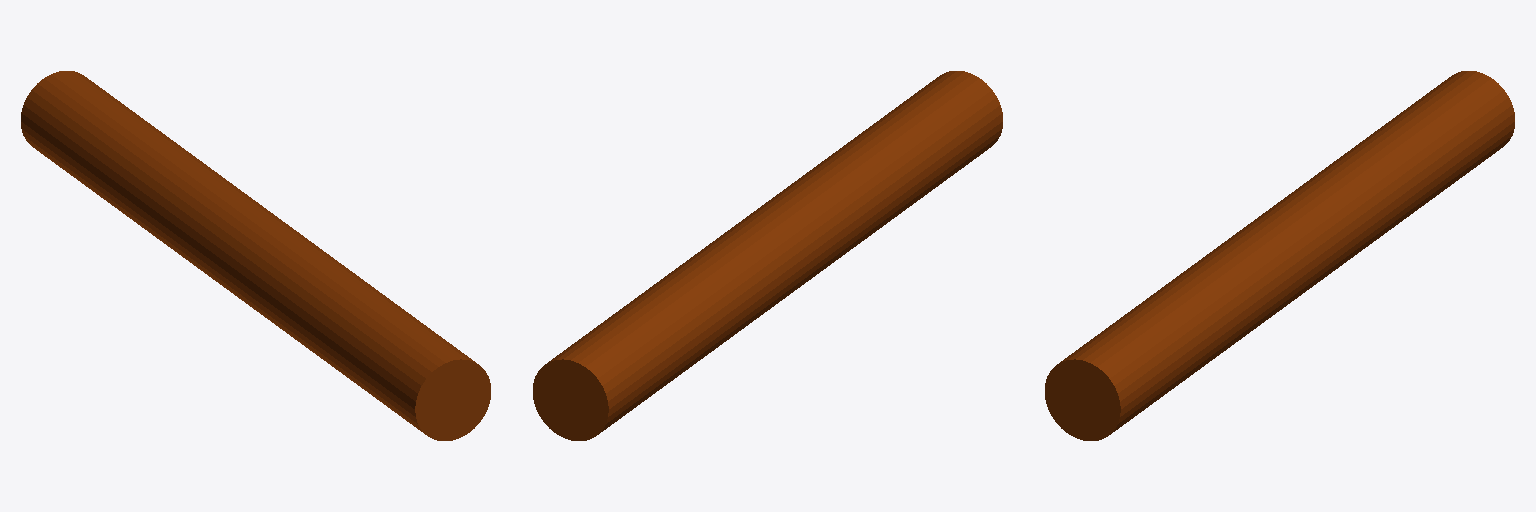
The robot description file, URDF, robot "cylinder":
<?xml version="1.0" ?>
<!-- =================================================================================== -->
<!-- |    This document was autogenerated by xacro from cylinder.xacro                 | -->
<!-- |    EDITING THIS FILE BY HAND IS NOT RECOMMENDED                                 | -->
<!-- =================================================================================== -->
<robot name="cylinder">
  <link name="world"/>
  <link name="base">
    <visual>
      <origin rpy="1.57079633 0 0" xyz="0 0 0"/>
      <geometry>
        <cylinder length="7.07106781185" radius="0.395"/>
      </geometry>
      <material name="cylinder_material">
        <color rgba="0.545 0.271 0.075 1.0"/>
        <texture filename="../textures/tree_bark.jpg"/>
      </material>
    </visual>
    <collision>
      <origin rpy="1.57079633 0 0" xyz="0 0 0"/>
      <geometry>
        <cylinder length="7.07106781185" radius="0.395"/>
      </geometry>
    </collision>
    <inertial>
      <origin rpy="0 0 0" xyz="0 0 0"/>
      <mass value="1"/>
      <inertia ixx="4.205672916648428" ixy="0.0" ixz="0.0" iyy="4.205672916648428" iyz="0.0" izz="24.999999999890573"/>
    </inertial>
  </link>
  <joint name="base_joint" type="fixed">
    <parent link="world"/>
    <child link="base"/>
    <origin rpy="0 0 0" xyz="0.0 0.0 0.0"/>
  </joint>
</robot>

--- Facts derived from the render (not from the file) ---
Views: 3 orthographic renders of the robot side by side, from view 1: azimuth 30°, elevation 25°; view 2: azimuth 150°, elevation 25°; view 3: azimuth 330°, elevation 25°.
Robot: cylinder — 2 links, 1 joints (1 fixed); root link world; default pose: all joints at 0.
Visible links, largest first — view 1: base; view 2: base; view 3: base.
Boxes of the visible links, x1=… form: base: x1=21, y1=71, x2=490, y2=440; base: x1=533, y1=71, x2=1002, y2=440; base: x1=1045, y1=71, x2=1514, y2=440.
Bounding box of the posed robot: 0.79 × 7.07 × 0.79 m (x, y, z).
Geometry: primitives only (box / cylinder / sphere), no mesh files.
